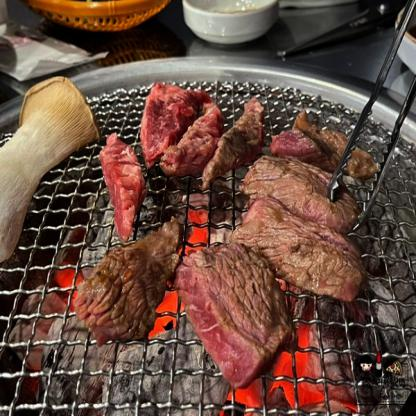Carne: (182, 239, 283, 387), (236, 194, 363, 300), (73, 247, 166, 346), (248, 157, 361, 230), (213, 101, 269, 177)
